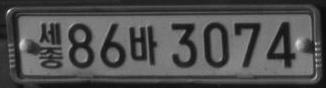0: (202, 21, 230, 68)
3: (171, 22, 197, 68)
4: (266, 21, 296, 68)
6: (99, 23, 126, 68)
7: (234, 21, 262, 68)
8: (66, 22, 95, 68)
바: (129, 25, 158, 65)
세종_V: (37, 22, 63, 69)
